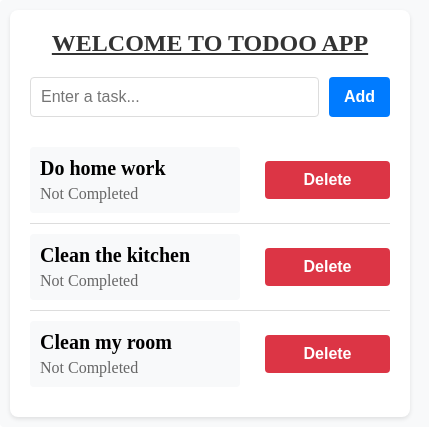
A todo can be deleted
What coordinates should you click on to do the following:
click the button "Delete" next to "Clean my room"
I would click on:
 (328, 354)
Its box is [265,335,390,373].
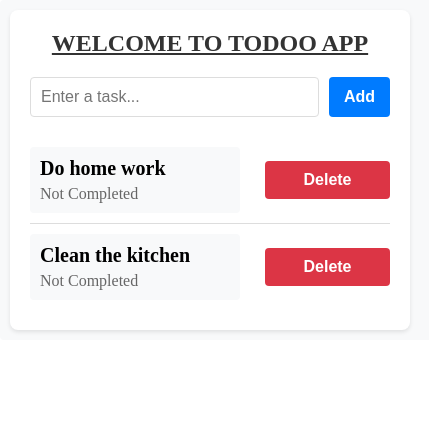
Now the heading "Clean my room" is gone
